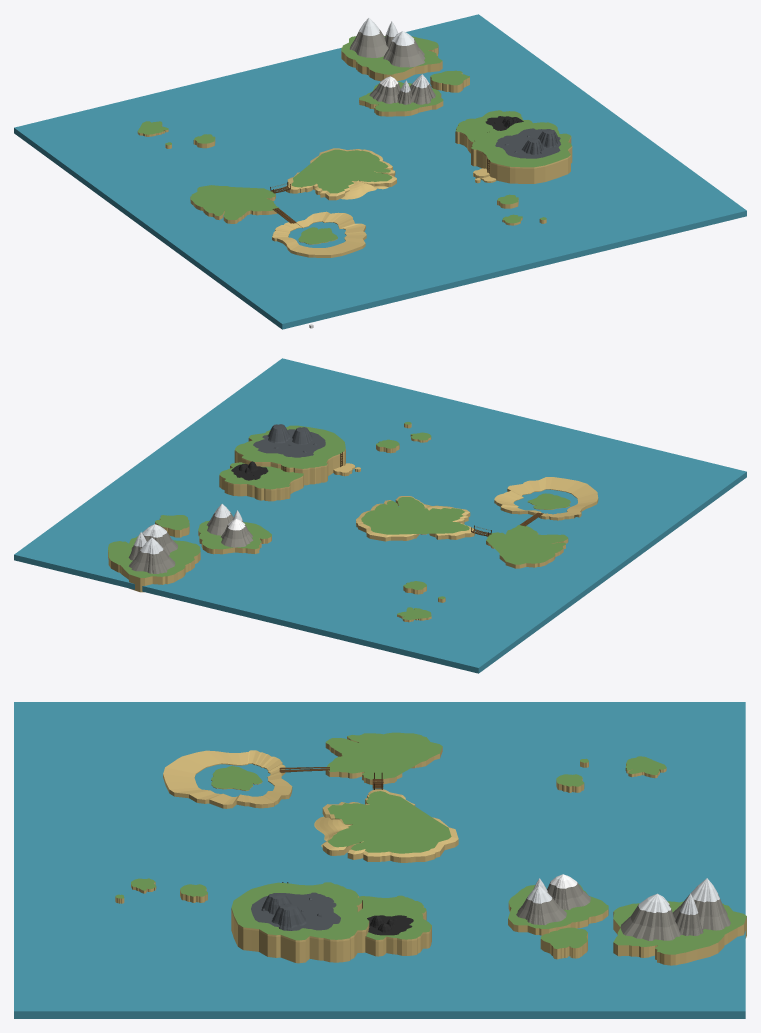
File: LastIsland.fbx
The picture shows the model from 3 angles, top to bottom: view 1: azimuth 30°, elevation 25°; view 2: azimuth 150°, elevation 25°; view 3: azimuth 270°, elevation 25°; orthographic projection. The views are drawn at different scales.
Parts seen in each view (by area): view 1: Sea, Island1, Island3, Island2, Cylinder.007, Island2.001, Island2.003, Island3.001, Mount.002, Mount, Island3.002, Island2.004 (+3 smaller); view 2: Sea, Island1, Island3, Island2, Cylinder.007, Island2.001, Island3.001, Island2.003, Island3.002, Mount, Mount.005, Island2.004 (+2 smaller); view 3: Sea, Island1, Island3, Island2, Cylinder.007, Island2.001, Island3.001, Island2.003, Mount.002, Island3.002, Mount, Island2.004 (+7 smaller).
Part boxes in pixels (box(x1,y1,x2,y2)): Sea: box(14, 14, 746, 329); Island1: box(286, 148, 396, 200); Island3: box(471, 121, 572, 183); Island2: box(190, 185, 279, 223); Cylinder.007: box(272, 211, 366, 257); Island2.001: box(341, 36, 442, 81); Island2.003: box(359, 81, 443, 116); Island3.001: box(455, 110, 531, 153); Mount.002: box(383, 31, 425, 67); Mount: box(350, 18, 388, 57); Island3.002: box(495, 128, 560, 158); Island2.004: box(430, 70, 469, 92); Sea: box(14, 358, 746, 673); Island1: box(356, 496, 474, 541); Island3: box(234, 425, 345, 485); Island2: box(486, 525, 568, 568); Cylinder.007: box(494, 477, 598, 520); Island2.001: box(108, 536, 200, 592); Island3.001: box(219, 462, 303, 501); Island2.003: box(198, 520, 271, 554); Island3.002: box(253, 429, 325, 457); Mount: box(129, 537, 175, 573); Mount.005: box(221, 519, 253, 547); Island2.004: box(155, 515, 189, 537); Sea: box(14, 702, 745, 1018); Island1: box(322, 789, 458, 862); Island3: box(231, 882, 369, 963); Island2: box(325, 732, 442, 784); Cylinder.007: box(163, 750, 292, 808); Island2.001: box(613, 901, 746, 965); Island3.001: box(358, 895, 431, 956); Island2.003: box(508, 884, 608, 935); Mount.002: box(620, 893, 680, 940); Island3.002: box(251, 892, 340, 930); Mount: box(673, 878, 730, 930); Island2.004: box(540, 927, 587, 959).
Size of the model in its own units: 348 by 47.18 by 348.
